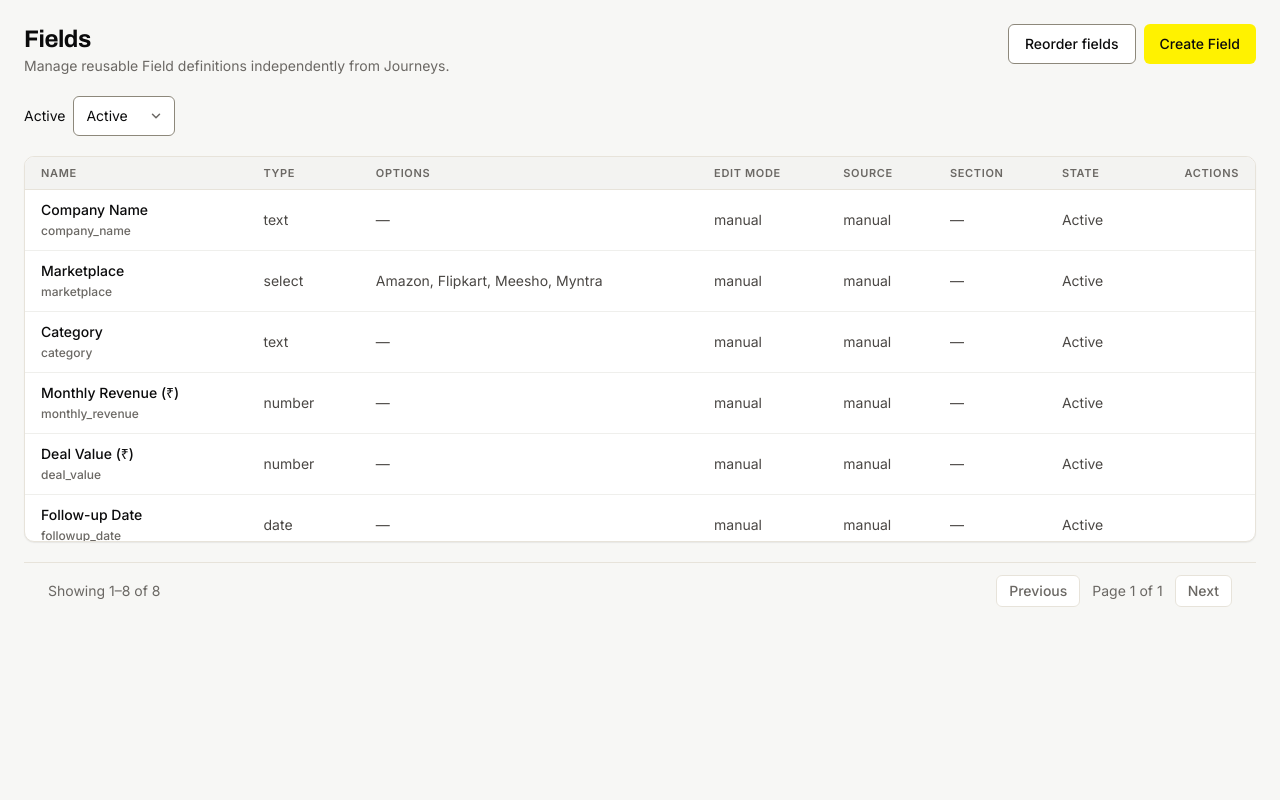
Scenario: administration resource flows › omits the role picker for an admin who cannot edit permissions
Click the button "Create Field" at (1200, 44), box [1144, 24, 1256, 64]
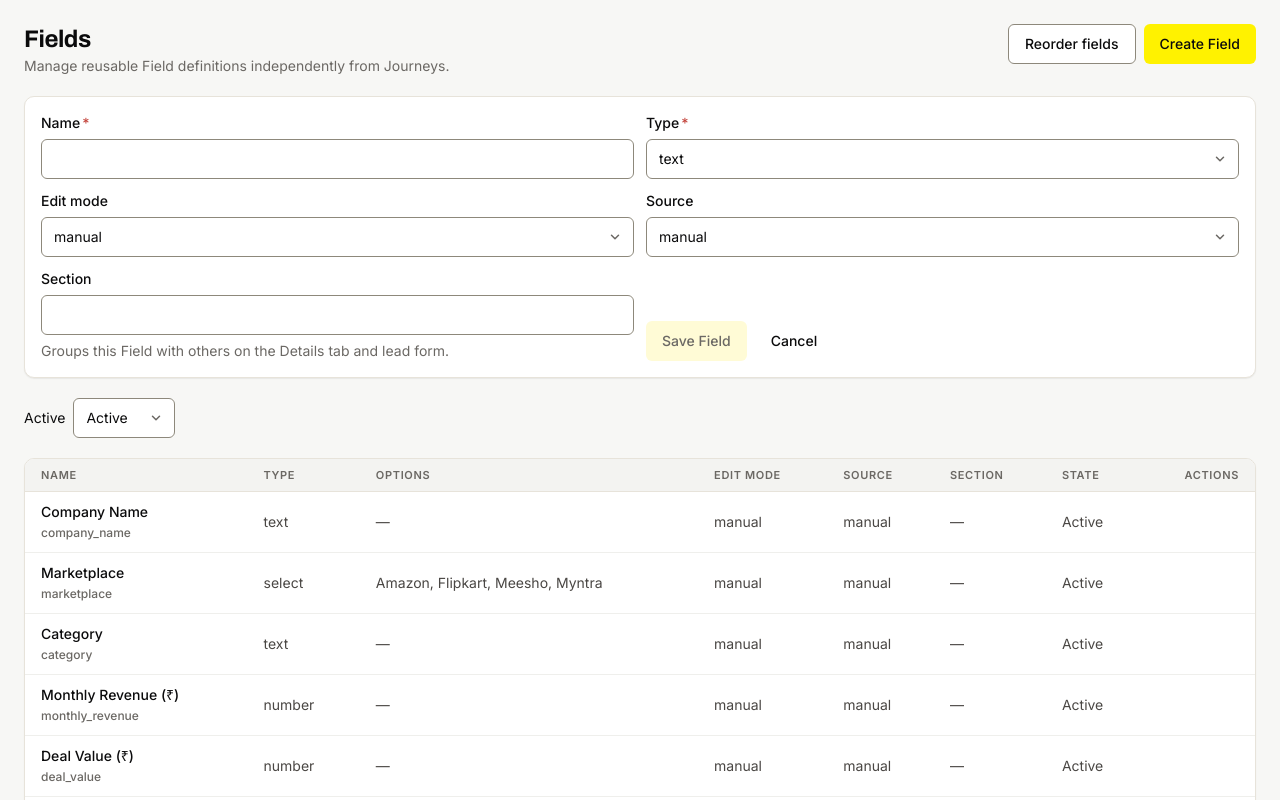
Expected: the field labelled "Name*" is shown, [41, 139, 634, 179]
